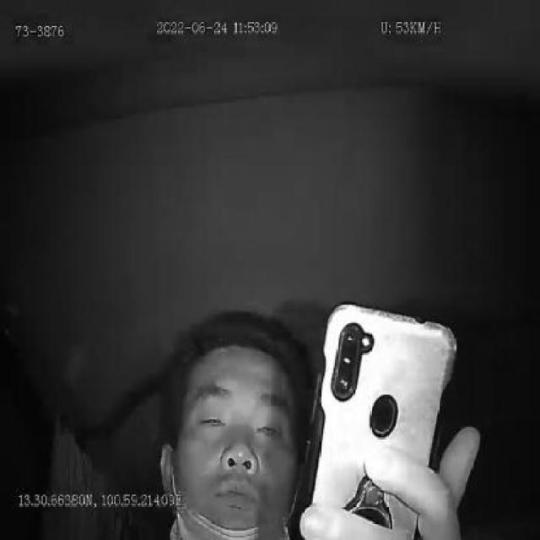phone: (294, 302, 456, 540)
